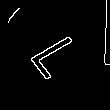L_NE: (20, 28, 90, 82)
